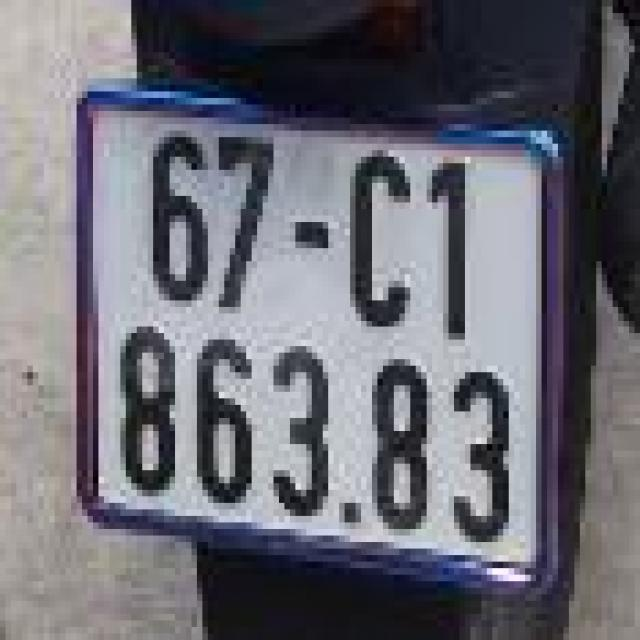1: (427, 147, 487, 349)
3: (449, 349, 525, 552), (271, 323, 336, 513)
6: (137, 124, 213, 314), (189, 317, 260, 519)
7: (205, 124, 282, 320)
8: (107, 314, 183, 510), (370, 336, 440, 539)
C: (336, 147, 424, 330)
